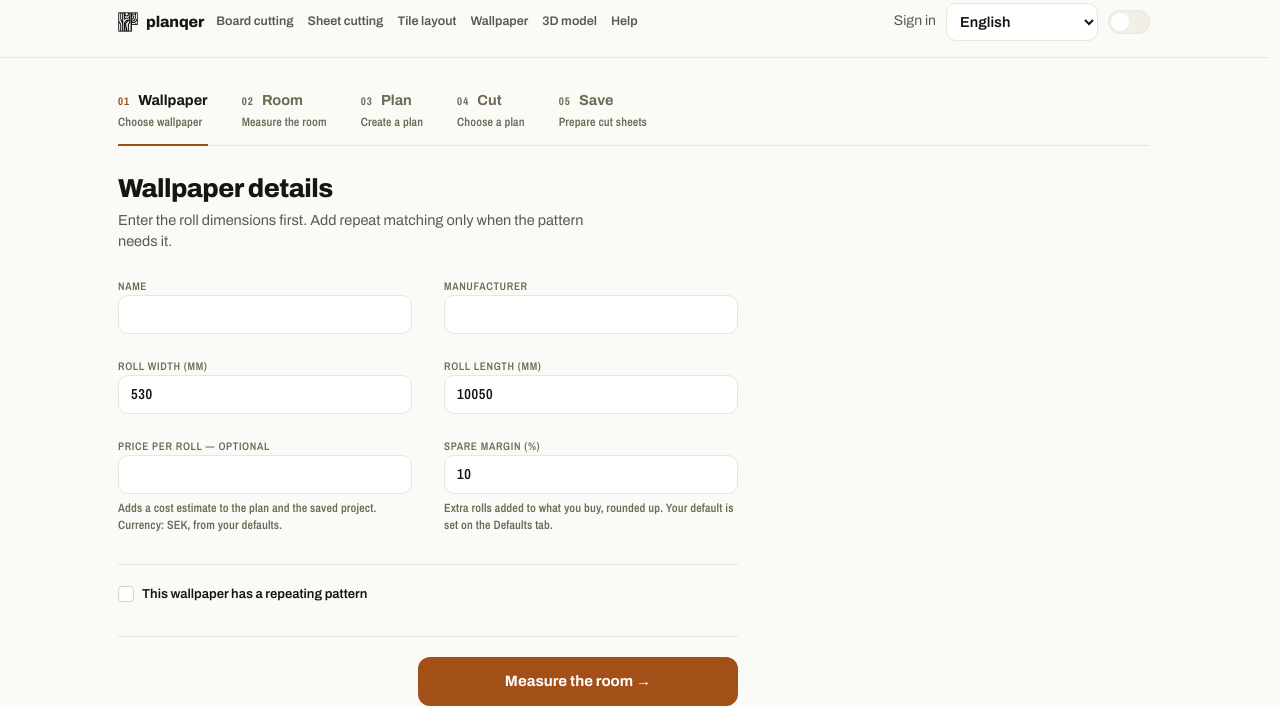
Test: WallpaperOptimizer room step › defaults every inside corner to a 15 mm overlap so a plan can be created at once
The image size is (1280, 707).
Type "Willow" into the field labelled "Name" at (265, 314), box x1=118 y1=295 x2=412 y2=334
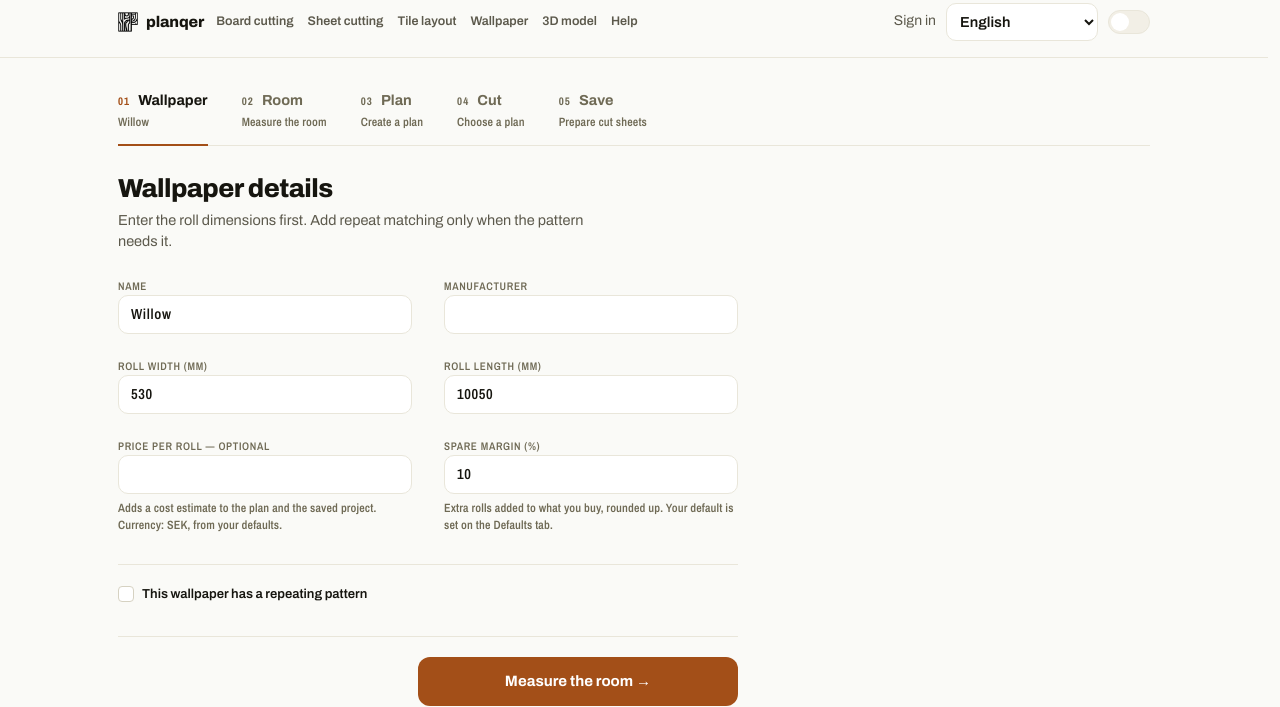
Type "Example" into the field labelled "Manufacturer" at (591, 314), box x1=444 y1=295 x2=738 y2=334
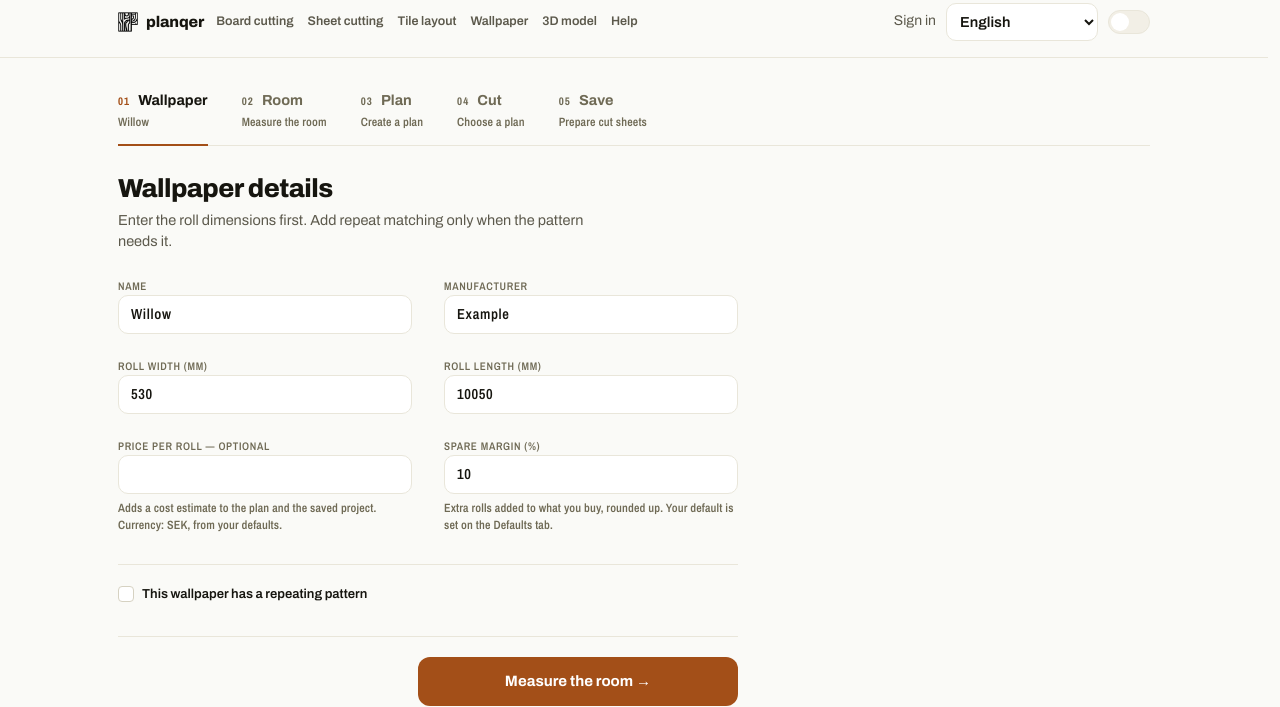
Click the button "Measure the room →" at (578, 682), box x1=418 y1=657 x2=738 y2=706
(page scrolled)
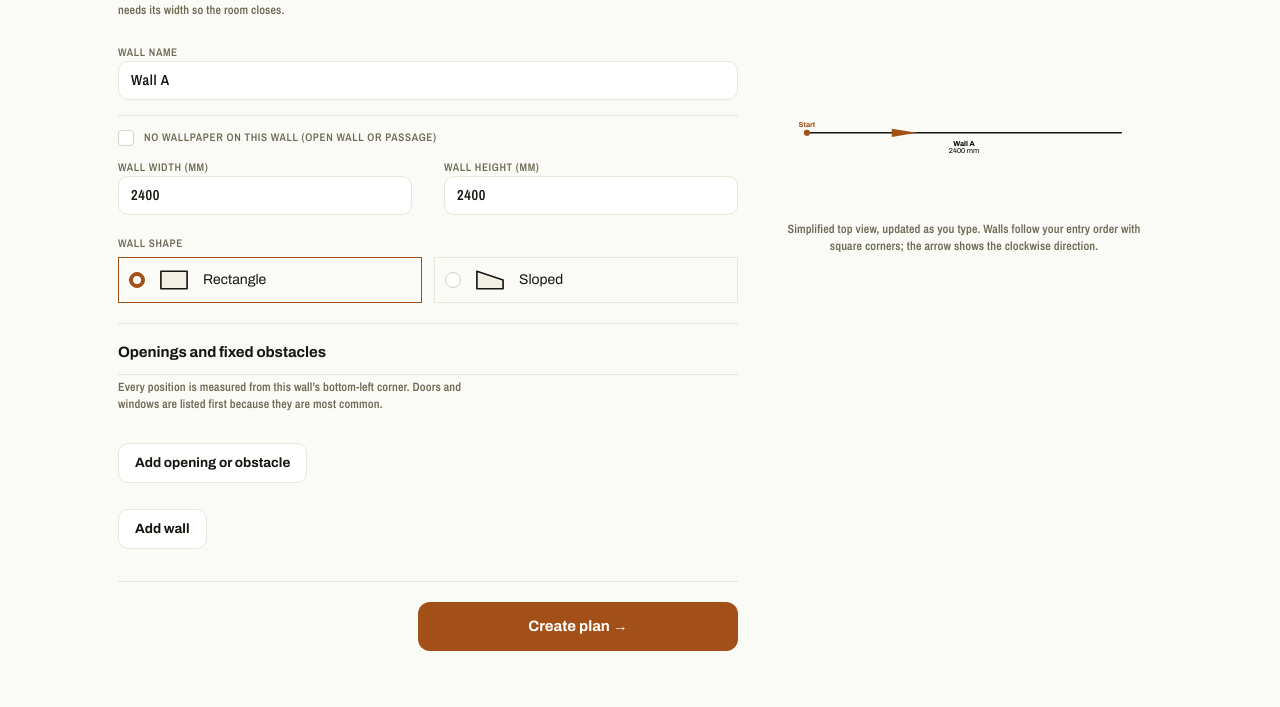
Click the button "Add wall" at (162, 529), box x1=118 y1=509 x2=207 y2=548
(page scrolled)
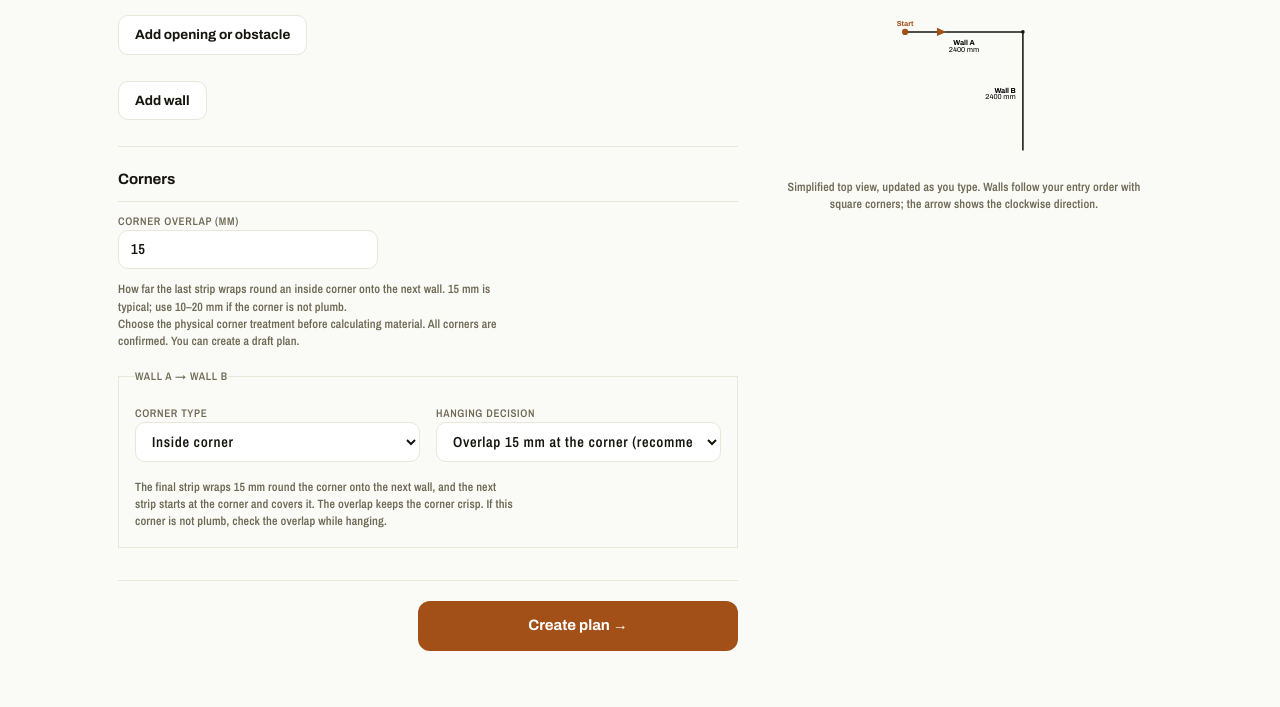
Expected: the button "Create plan →" is enabled, x1=418 y1=601 x2=738 y2=651
Now the dropdown labelled "Hanging decision" shows "Overlap 15 mm at the corner (recommended)", box x1=436 y1=422 x2=721 y2=462
